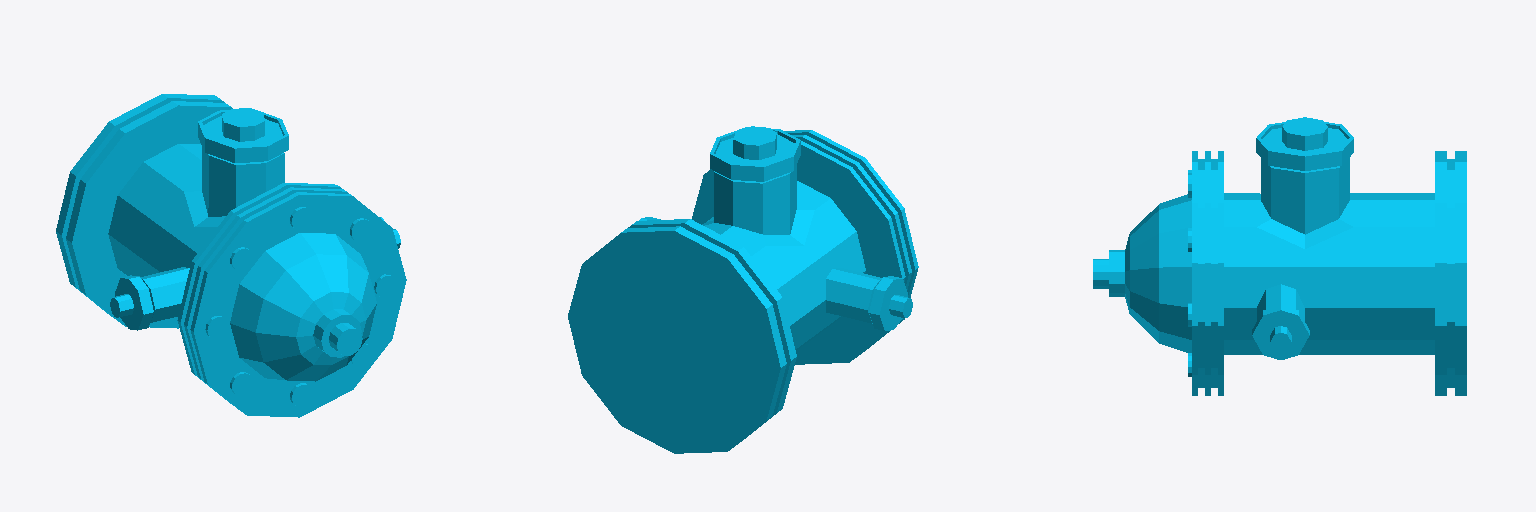
Rendered from xiaofangshuan.obj.
The picture shows the model from 3 angles: view 1: azimuth 30°, elevation 25°; view 2: azimuth 150°, elevation 25°; view 3: azimuth 270°, elevation 25°; orthographic projection.
Visible parts, largest first — view 1: 圆柱, 圆柱.1_0; view 2: 圆柱; view 3: 圆柱.
Part boxes in pixels (x1,y1,x2,y2): 圆柱: (56, 94, 406, 417); 圆柱.1_0: (205, 207, 396, 406); 圆柱: (568, 126, 918, 453); 圆柱: (1093, 117, 1466, 395).
Size of the model in its own units: 40 by 35.18 by 46.22.